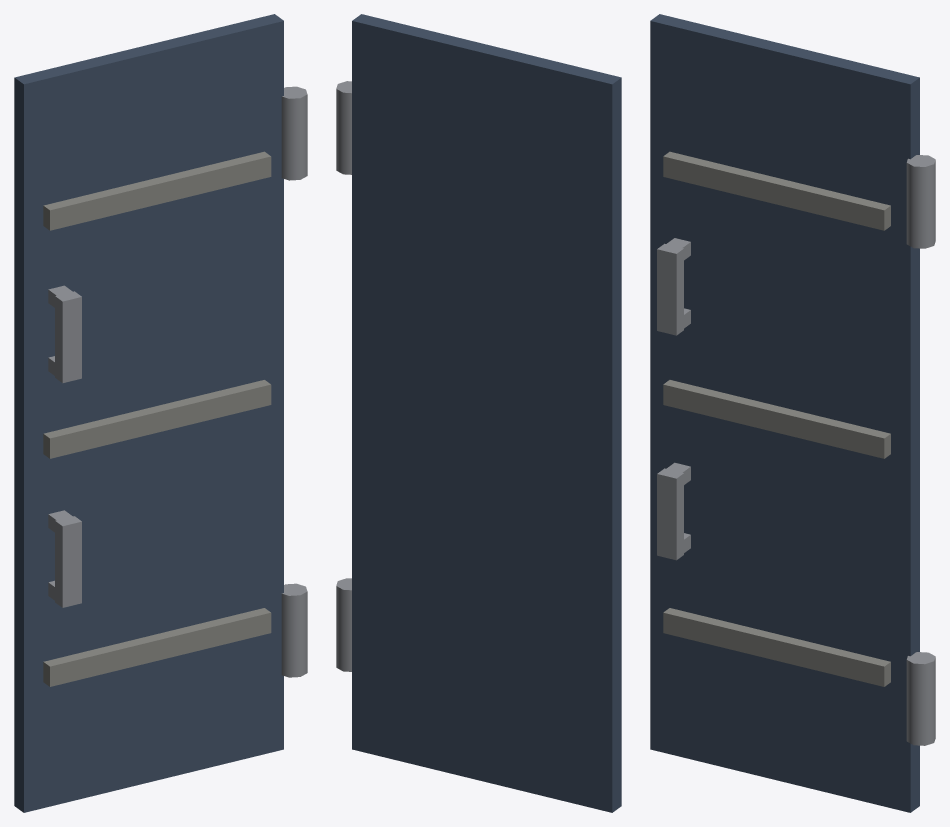
Rendered from mp8_reload_hatch.obj.
3 views of the same model, side by side, from view 1: azimuth 30°, elevation 25°; view 2: azimuth 150°, elevation 25°; view 3: azimuth 330°, elevation 25° (orthographic).
Visible parts, largest first — view 1: mp8_reload_hatch; view 2: mp8_reload_hatch; view 3: mp8_reload_hatch.
Part boxes in pixels (x1,y1,x2,y2): mp8_reload_hatch: (14, 14, 307, 812); mp8_reload_hatch: (336, 14, 621, 812); mp8_reload_hatch: (650, 14, 935, 812).
Size of the model in its own units: 0.435 by 1.07 by 0.0675.
